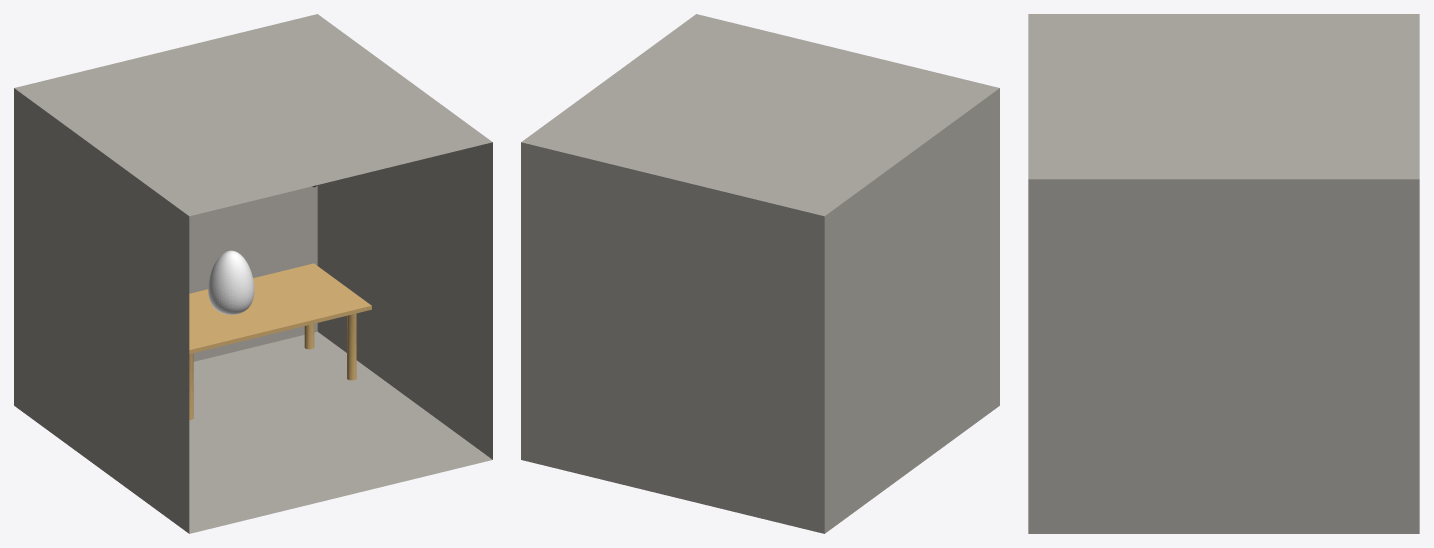
The model's file is veach_lamps.obj.
3 views of the same model, side by side, from view 1: azimuth 30°, elevation 25°; view 2: azimuth 150°, elevation 25°; view 3: azimuth 270°, elevation 25° (orthographic). The views are drawn at different scales.
Parts seen in each view (by area): view 1: Mesh010, Mesh009, Mesh002; view 2: Mesh010; view 3: Mesh010.
Part boxes in pixels (x1,y1,x2,y2): Mesh010: (14,14,492,533); Mesh009: (189,263,371,420); Mesh002: (208,250,254,314); Mesh010: (521,14,999,533); Mesh010: (1028,14,1419,533).
Size of the model in its own units: 1.59 by 1.61 by 1.59.
